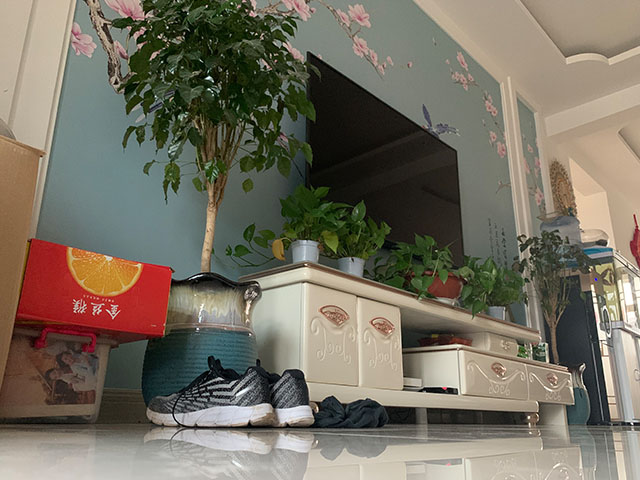socks: (312, 396, 389, 428)
table: (233, 258, 576, 427)
